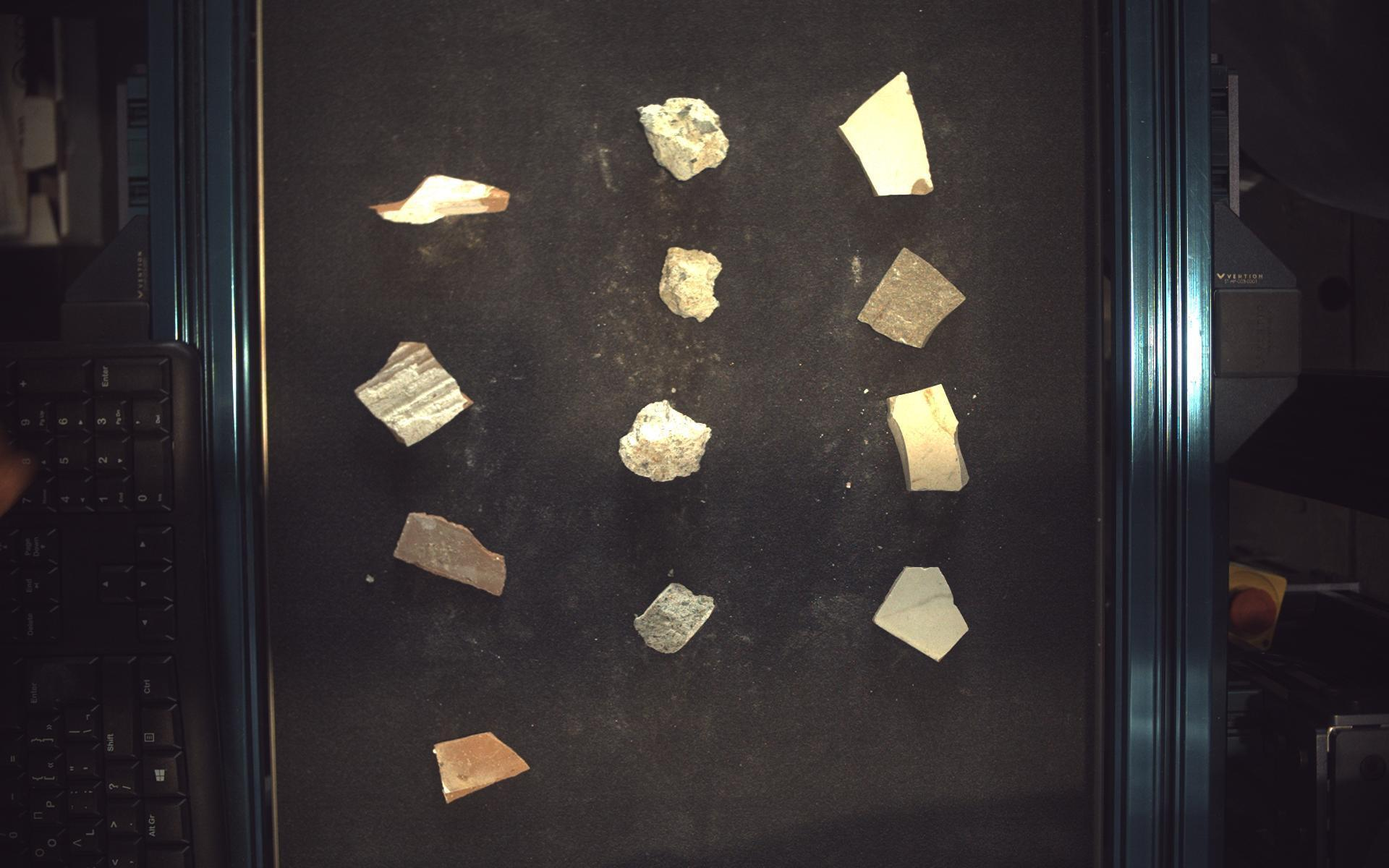brick: (354, 341, 472, 446), (394, 513, 506, 596), (370, 174, 509, 224), (433, 733, 530, 804)
concrete: (619, 400, 713, 482), (639, 96, 730, 179), (635, 584, 715, 655), (660, 247, 723, 321)
tile: (841, 71, 935, 195), (859, 247, 967, 348), (875, 567, 970, 662), (889, 385, 971, 492)
